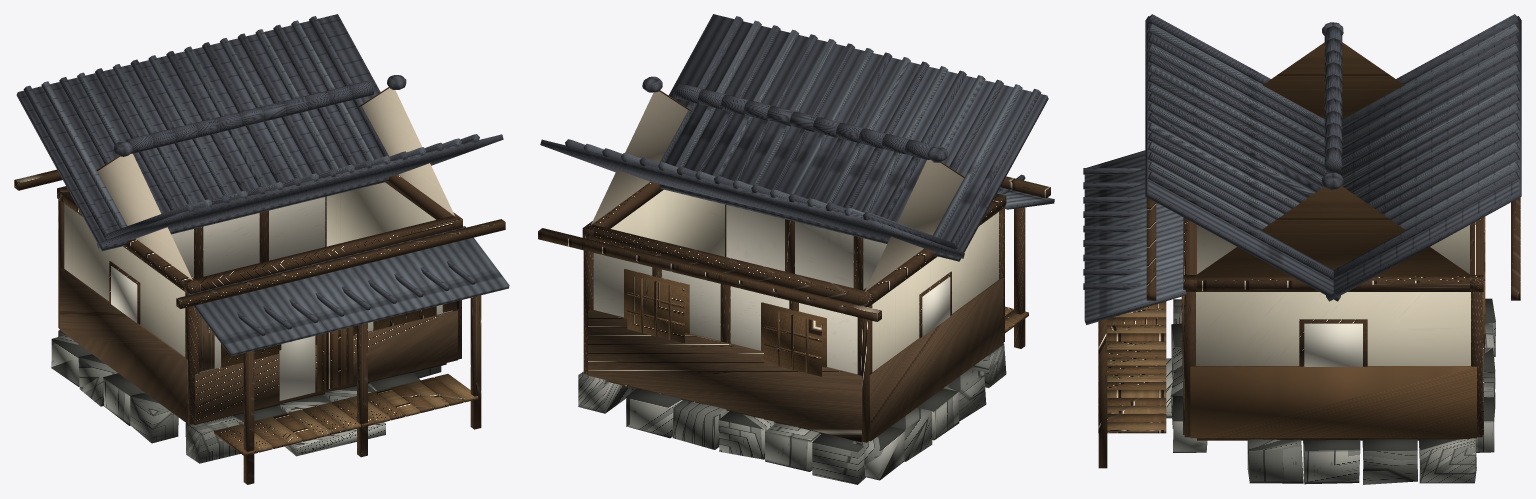
File: house_small.glb
3 views of the same model, side by side, from view 1: azimuth 30°, elevation 25°; view 2: azimuth 150°, elevation 25°; view 3: azimuth 270°, elevation 25° (orthographic). The views are drawn at different scales.
Visible parts, largest first — view 1: geometry_11, geometry_10, geometry_2, geometry_5, geometry_6, geometry_4, geometry_3, geometry_0, geometry_1, geometry_9, geometry_7, geometry_8; view 2: geometry_11, geometry_5, geometry_2, geometry_6, geometry_3, geometry_10, geometry_4, geometry_1, geometry_0, geometry_7; view 3: geometry_11, geometry_6, geometry_10, geometry_4, geometry_2, geometry_1, geometry_0, geometry_9, geometry_7.
Boxes of the visible parts, <box> form: geometry_11: <box>16,14,503,335</box>; geometry_10: <box>41,20,509,356</box>; geometry_2: <box>14,169,505,484</box>; geometry_5: <box>59,267,459,423</box>; geometry_6: <box>65,87,463,455</box>; geometry_4: <box>64,182,435,356</box>; geometry_3: <box>171,197,452,372</box>; geometry_0: <box>58,330,441,463</box>; geometry_1: <box>51,335,420,425</box>; geometry_9: <box>228,374,478,452</box>; geometry_7: <box>111,266,315,400</box>; geometry_8: <box>284,422,385,456</box>; geometry_11: <box>540,14,1048,261</box>; geometry_5: <box>588,278,1003,442</box>; geometry_2: <box>538,176,1050,442</box>; geometry_6: <box>591,90,1028,376</box>; geometry_3: <box>593,205,886,374</box>; geometry_10: <box>583,20,1054,238</box>; geometry_4: <box>610,189,998,371</box>; geometry_1: <box>578,371,959,480</box>; geometry_0: <box>631,344,1006,484</box>; geometry_7: <box>922,277,950,336</box>; geometry_11: <box>1083,14,1521,301</box>; geometry_6: <box>1098,42,1485,438</box>; geometry_10: <box>1084,24,1519,324</box>; geometry_4: <box>1196,225,1470,365</box>; geometry_2: <box>1098,197,1520,468</box>; geometry_1: <box>1171,323,1495,484</box>; geometry_0: <box>1170,298,1495,484</box>; geometry_9: <box>1098,309,1166,433</box>; geometry_7: <box>1304,323,1362,366</box>.
Size of the model in its own units: 6.2 by 4.99 by 6.43.
Materials: 12 (11 with a texture image).
